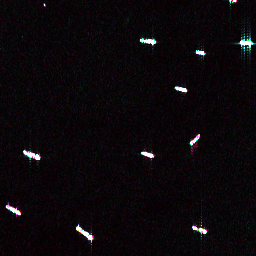ship: (72, 223, 96, 243), (20, 147, 43, 162), (3, 202, 23, 218), (190, 223, 209, 237), (187, 131, 203, 147), (138, 35, 158, 46), (138, 149, 156, 160), (173, 84, 189, 95), (239, 38, 253, 46), (194, 47, 206, 56)
